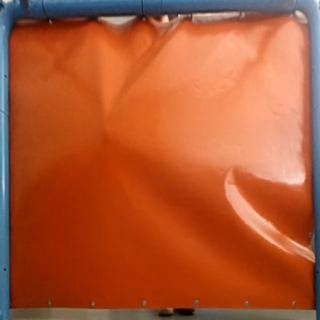Hit-hRxx: (100, 117, 114, 139)
